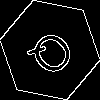Q: (25, 25, 84, 86)
